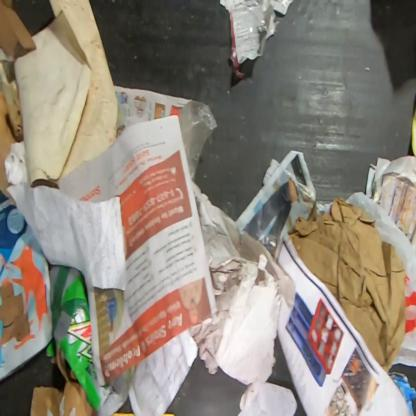cardboard: (286, 198, 406, 374), (45, 264, 101, 413), (29, 345, 95, 415), (0, 83, 25, 199), (0, 0, 38, 60)
soft_plastic: (345, 191, 415, 352), (220, 0, 295, 79), (178, 99, 219, 182)
